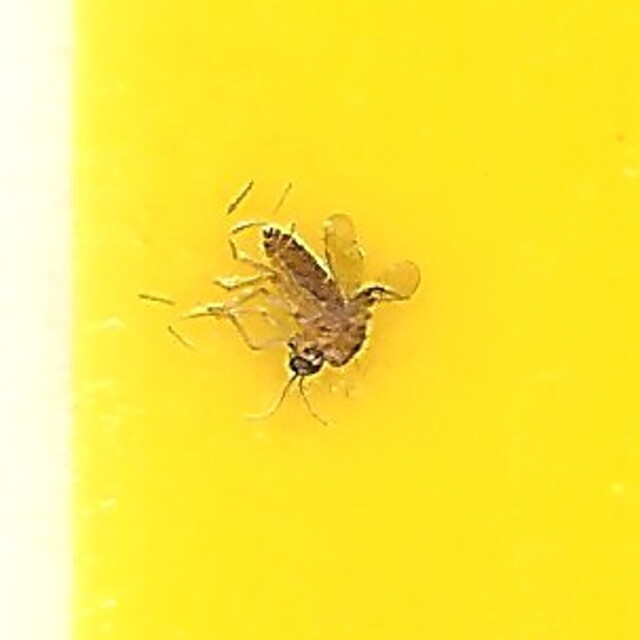Nematocera: (211, 215, 429, 425)
